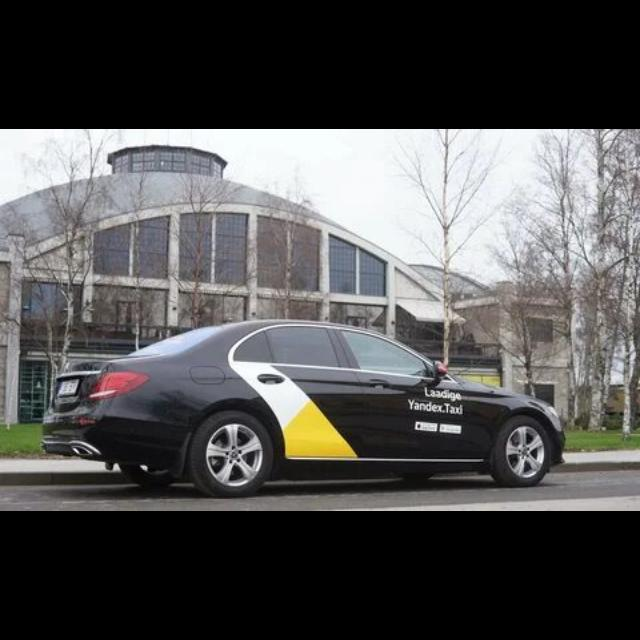taxi: (41, 319, 567, 500)
